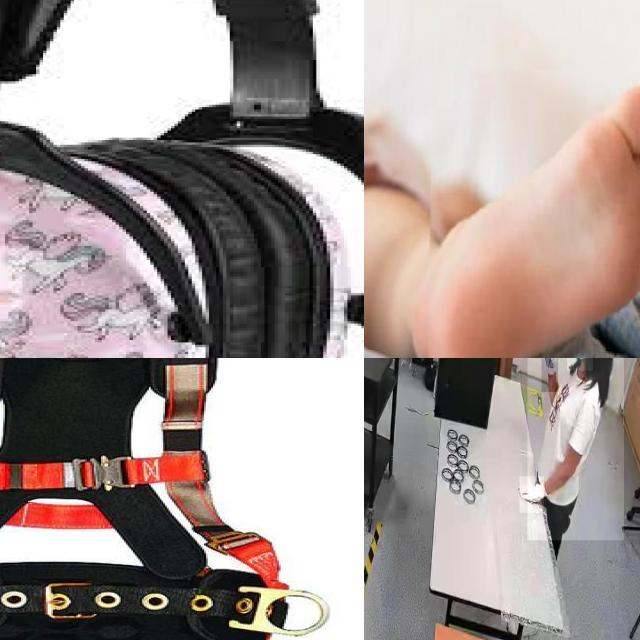Barefoots: (396, 75, 640, 358)
Ear-protection: (0, 133, 216, 358)
Harness: (0, 358, 328, 640)
face_mask: (567, 358, 593, 370)
hand_glove: (520, 476, 544, 514), (541, 358, 558, 392)
person: (527, 358, 624, 541)
